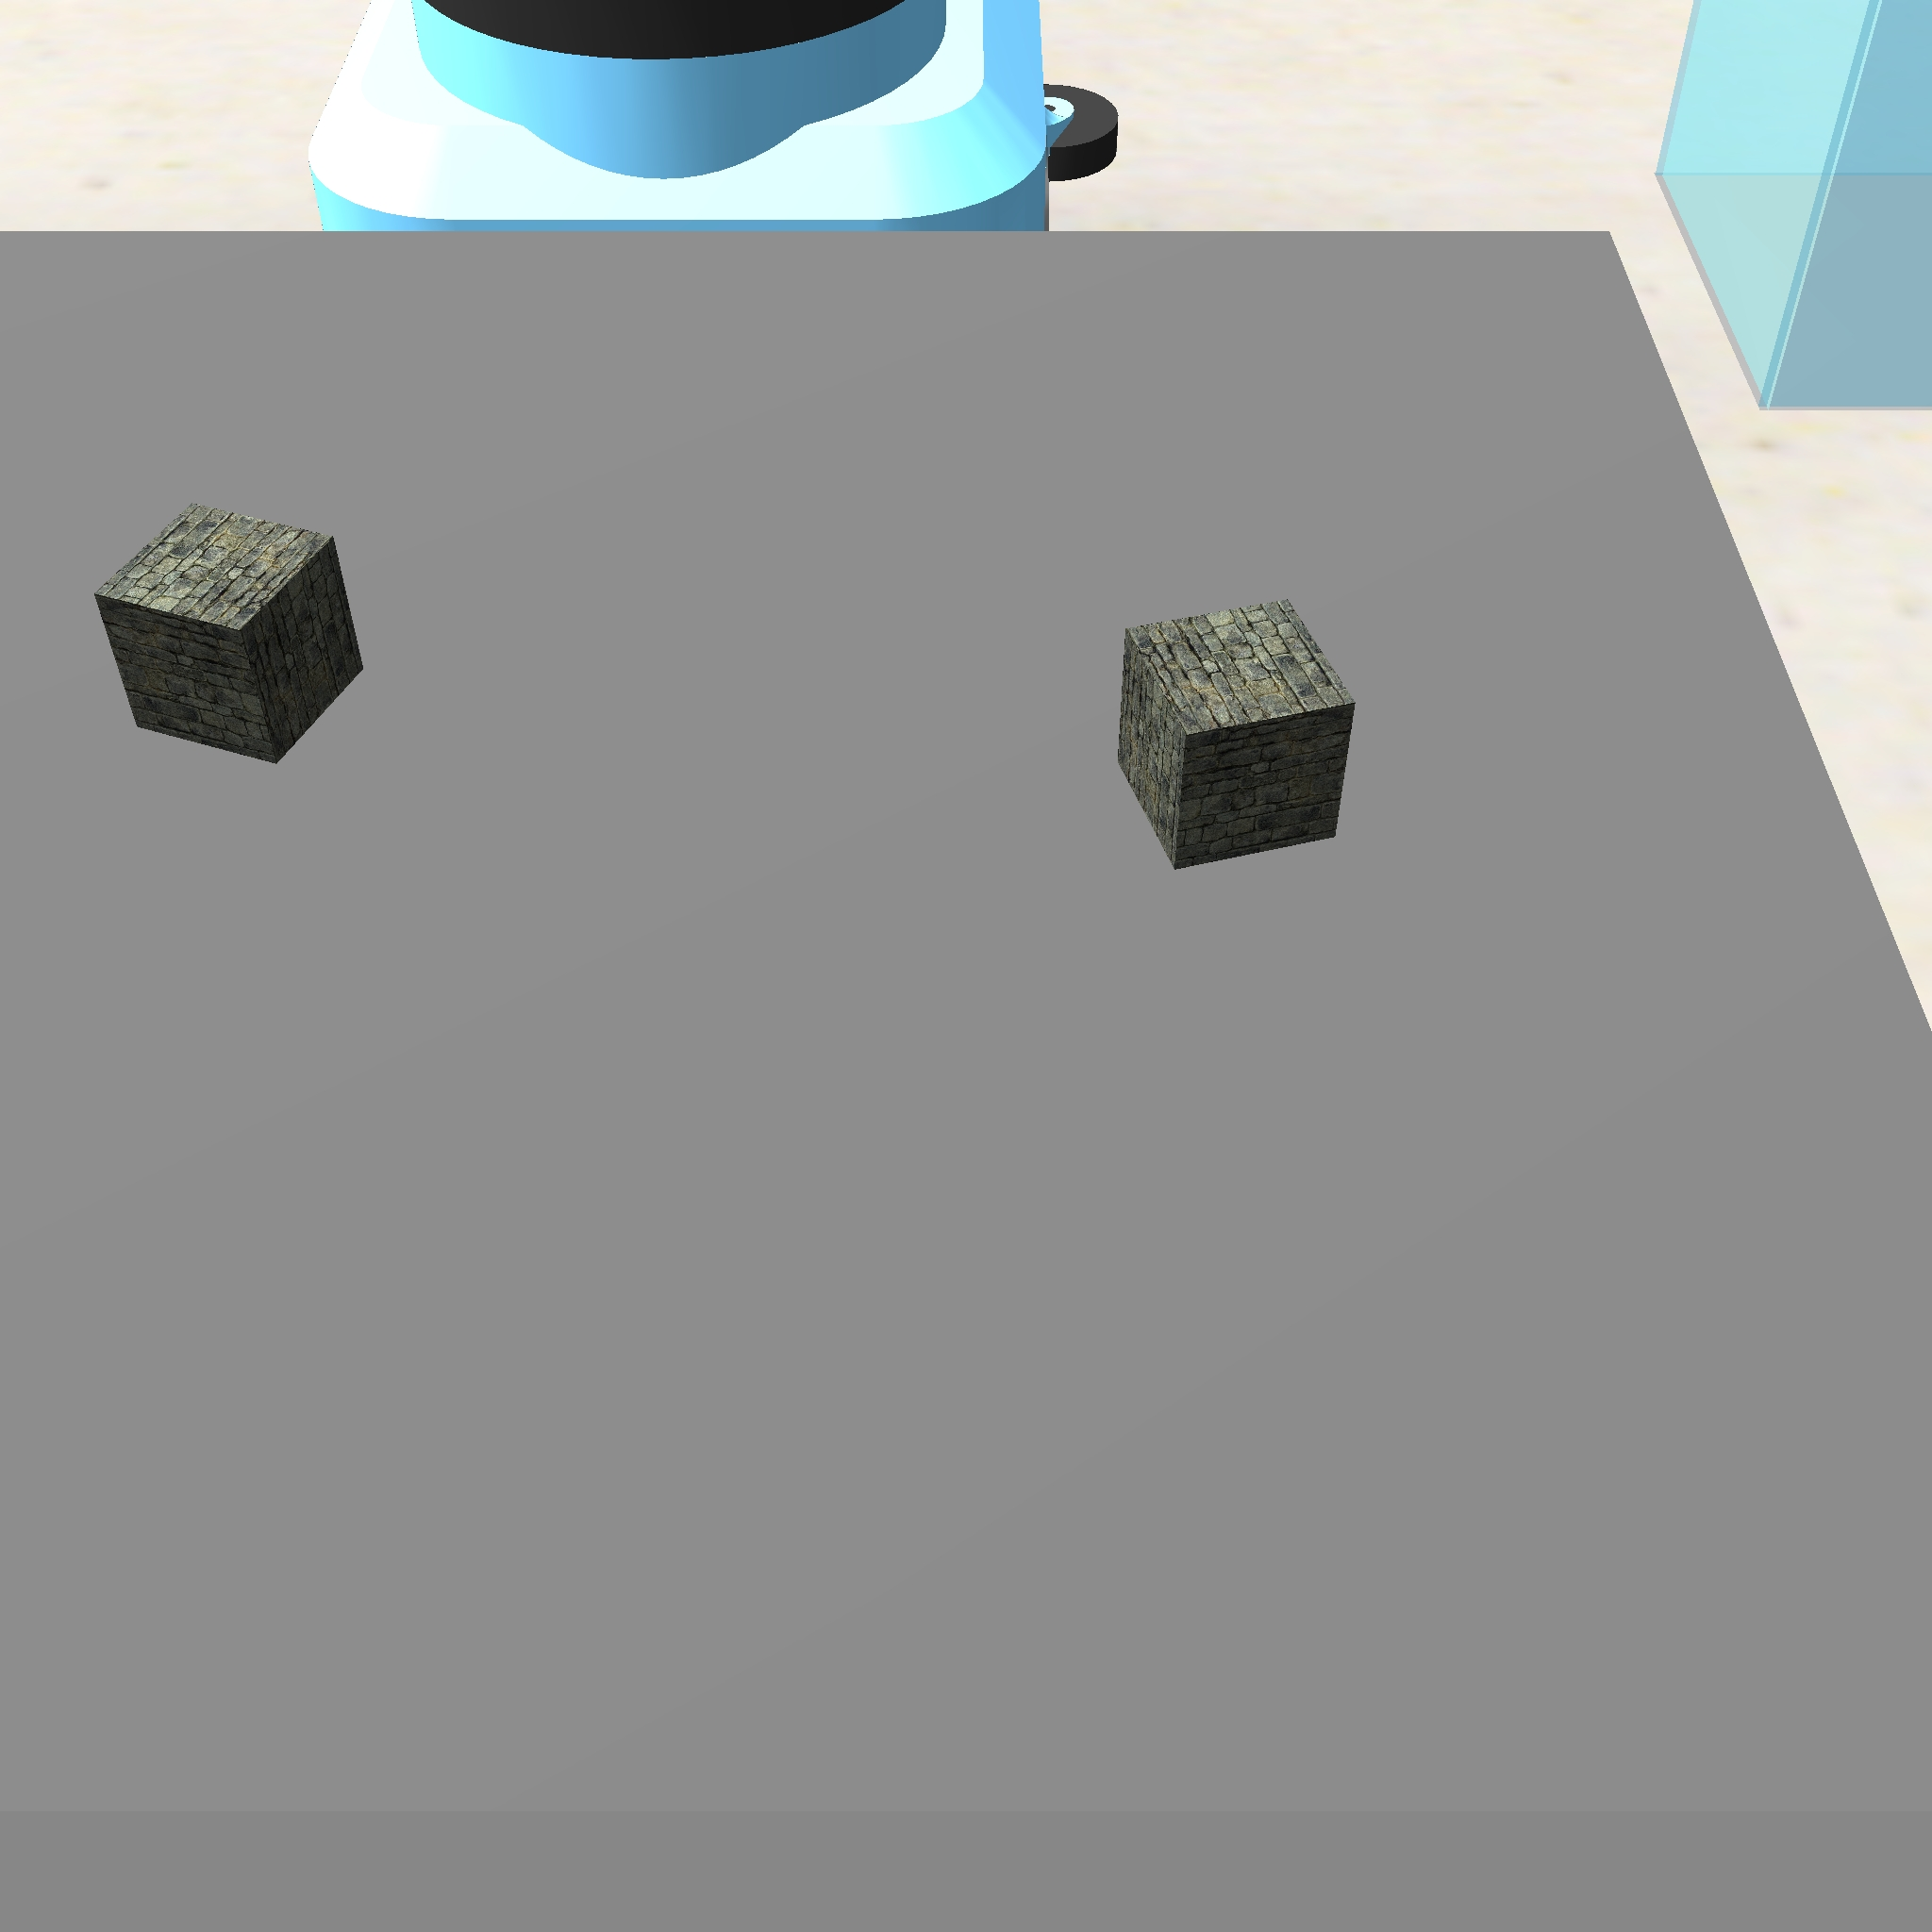cube: (87, 494, 370, 771), (1108, 589, 1366, 878)
